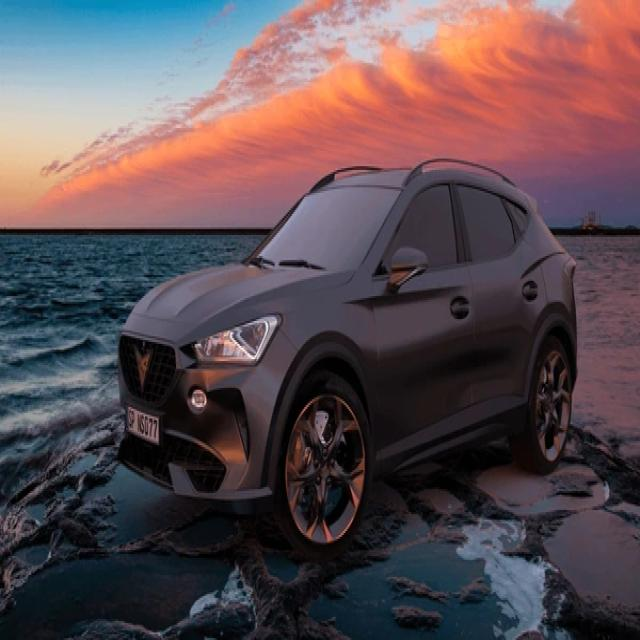cupra: (129, 347, 153, 398)
